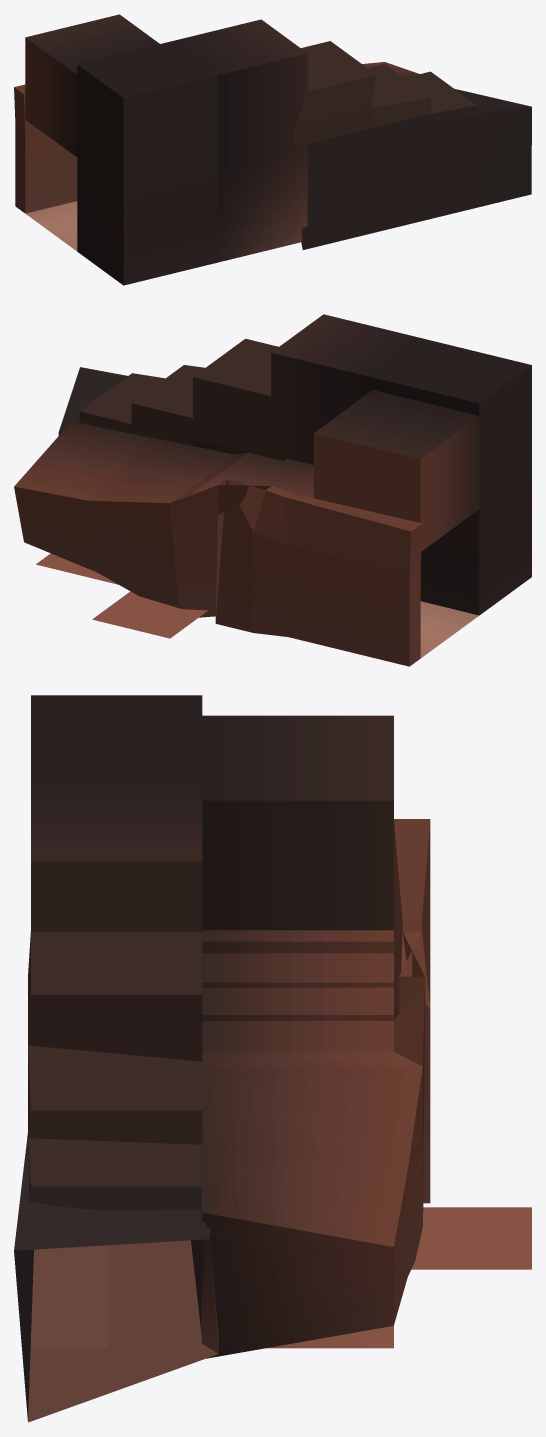
File: panteonM.obj
3 views of the same model, one above another, from view 1: azimuth 30°, elevation 25°; view 2: azimuth 150°, elevation 25°; view 3: azimuth 270°, elevation 25° (orthographic). The views are drawn at different scales.
Parts seen in each view (by area): view 1: Cubo.001; view 2: Cubo.001; view 3: Cubo.001.
Boxes of the visible parts, x1,y1,x2,y2 form: Cubo.001: (14,14,531,285); Cubo.001: (14,314,531,666); Cubo.001: (14,695,531,1422).
Bounding box in the file's own units: 9.1 × 4.19 × 5.4.
1 material, 1 textured.
